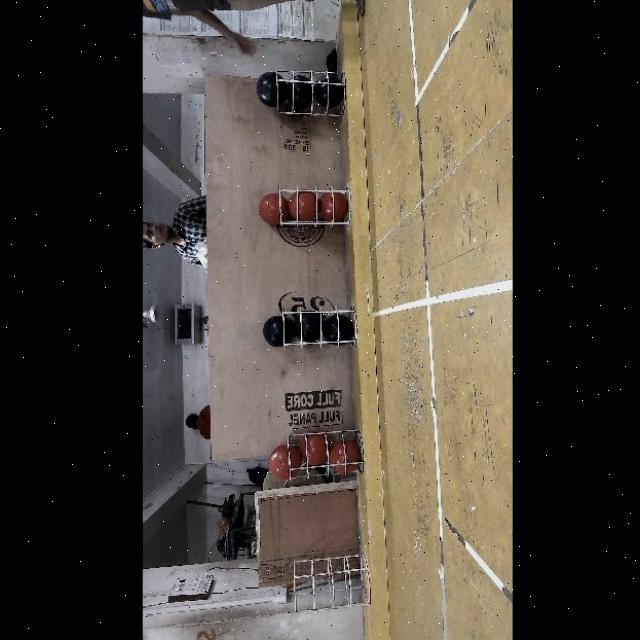P: (255, 72, 286, 108), (260, 316, 291, 347), (314, 76, 342, 108), (323, 315, 351, 345), (294, 312, 320, 342), (286, 78, 310, 109)
R: (267, 445, 300, 481), (256, 194, 287, 226), (326, 444, 358, 474), (286, 191, 314, 223), (300, 434, 326, 466), (318, 192, 344, 224)
S: (288, 552, 368, 608), (283, 428, 361, 484), (271, 67, 343, 121), (276, 306, 358, 348), (276, 187, 350, 233)
